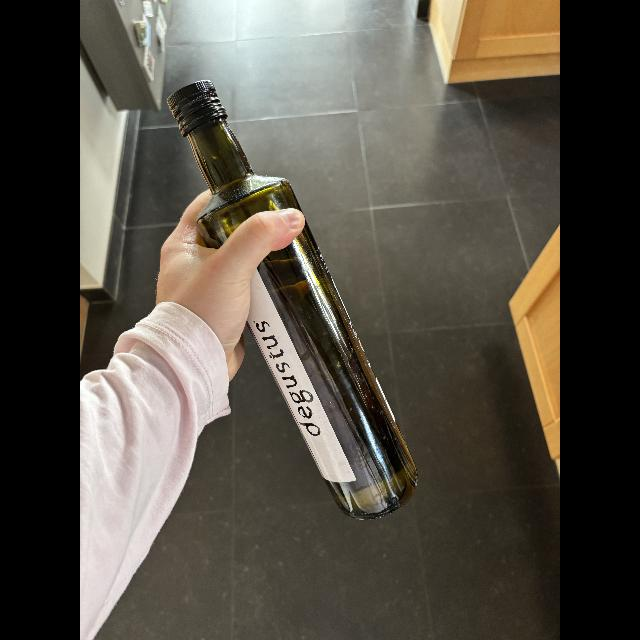Glass: (166, 72, 424, 520)
